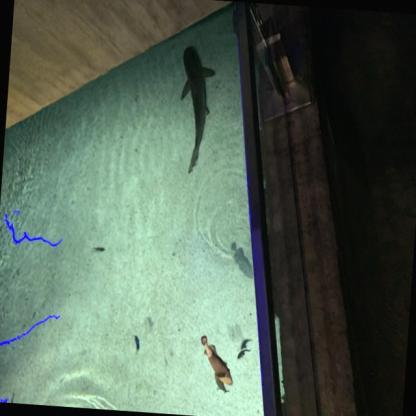fish: (194, 332, 237, 391), (226, 239, 256, 284), (213, 373, 229, 395), (131, 335, 143, 357), (90, 244, 106, 254)
shark: (174, 46, 217, 175)
